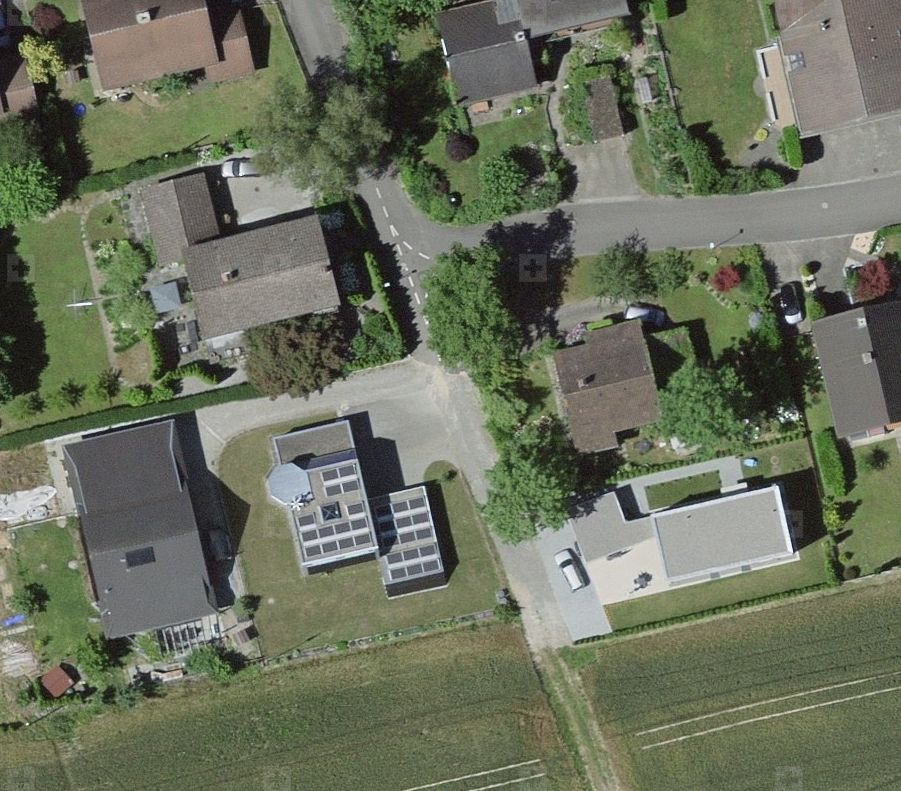solar: (295, 463, 370, 558), (375, 496, 442, 581), (110, 534, 166, 580)
